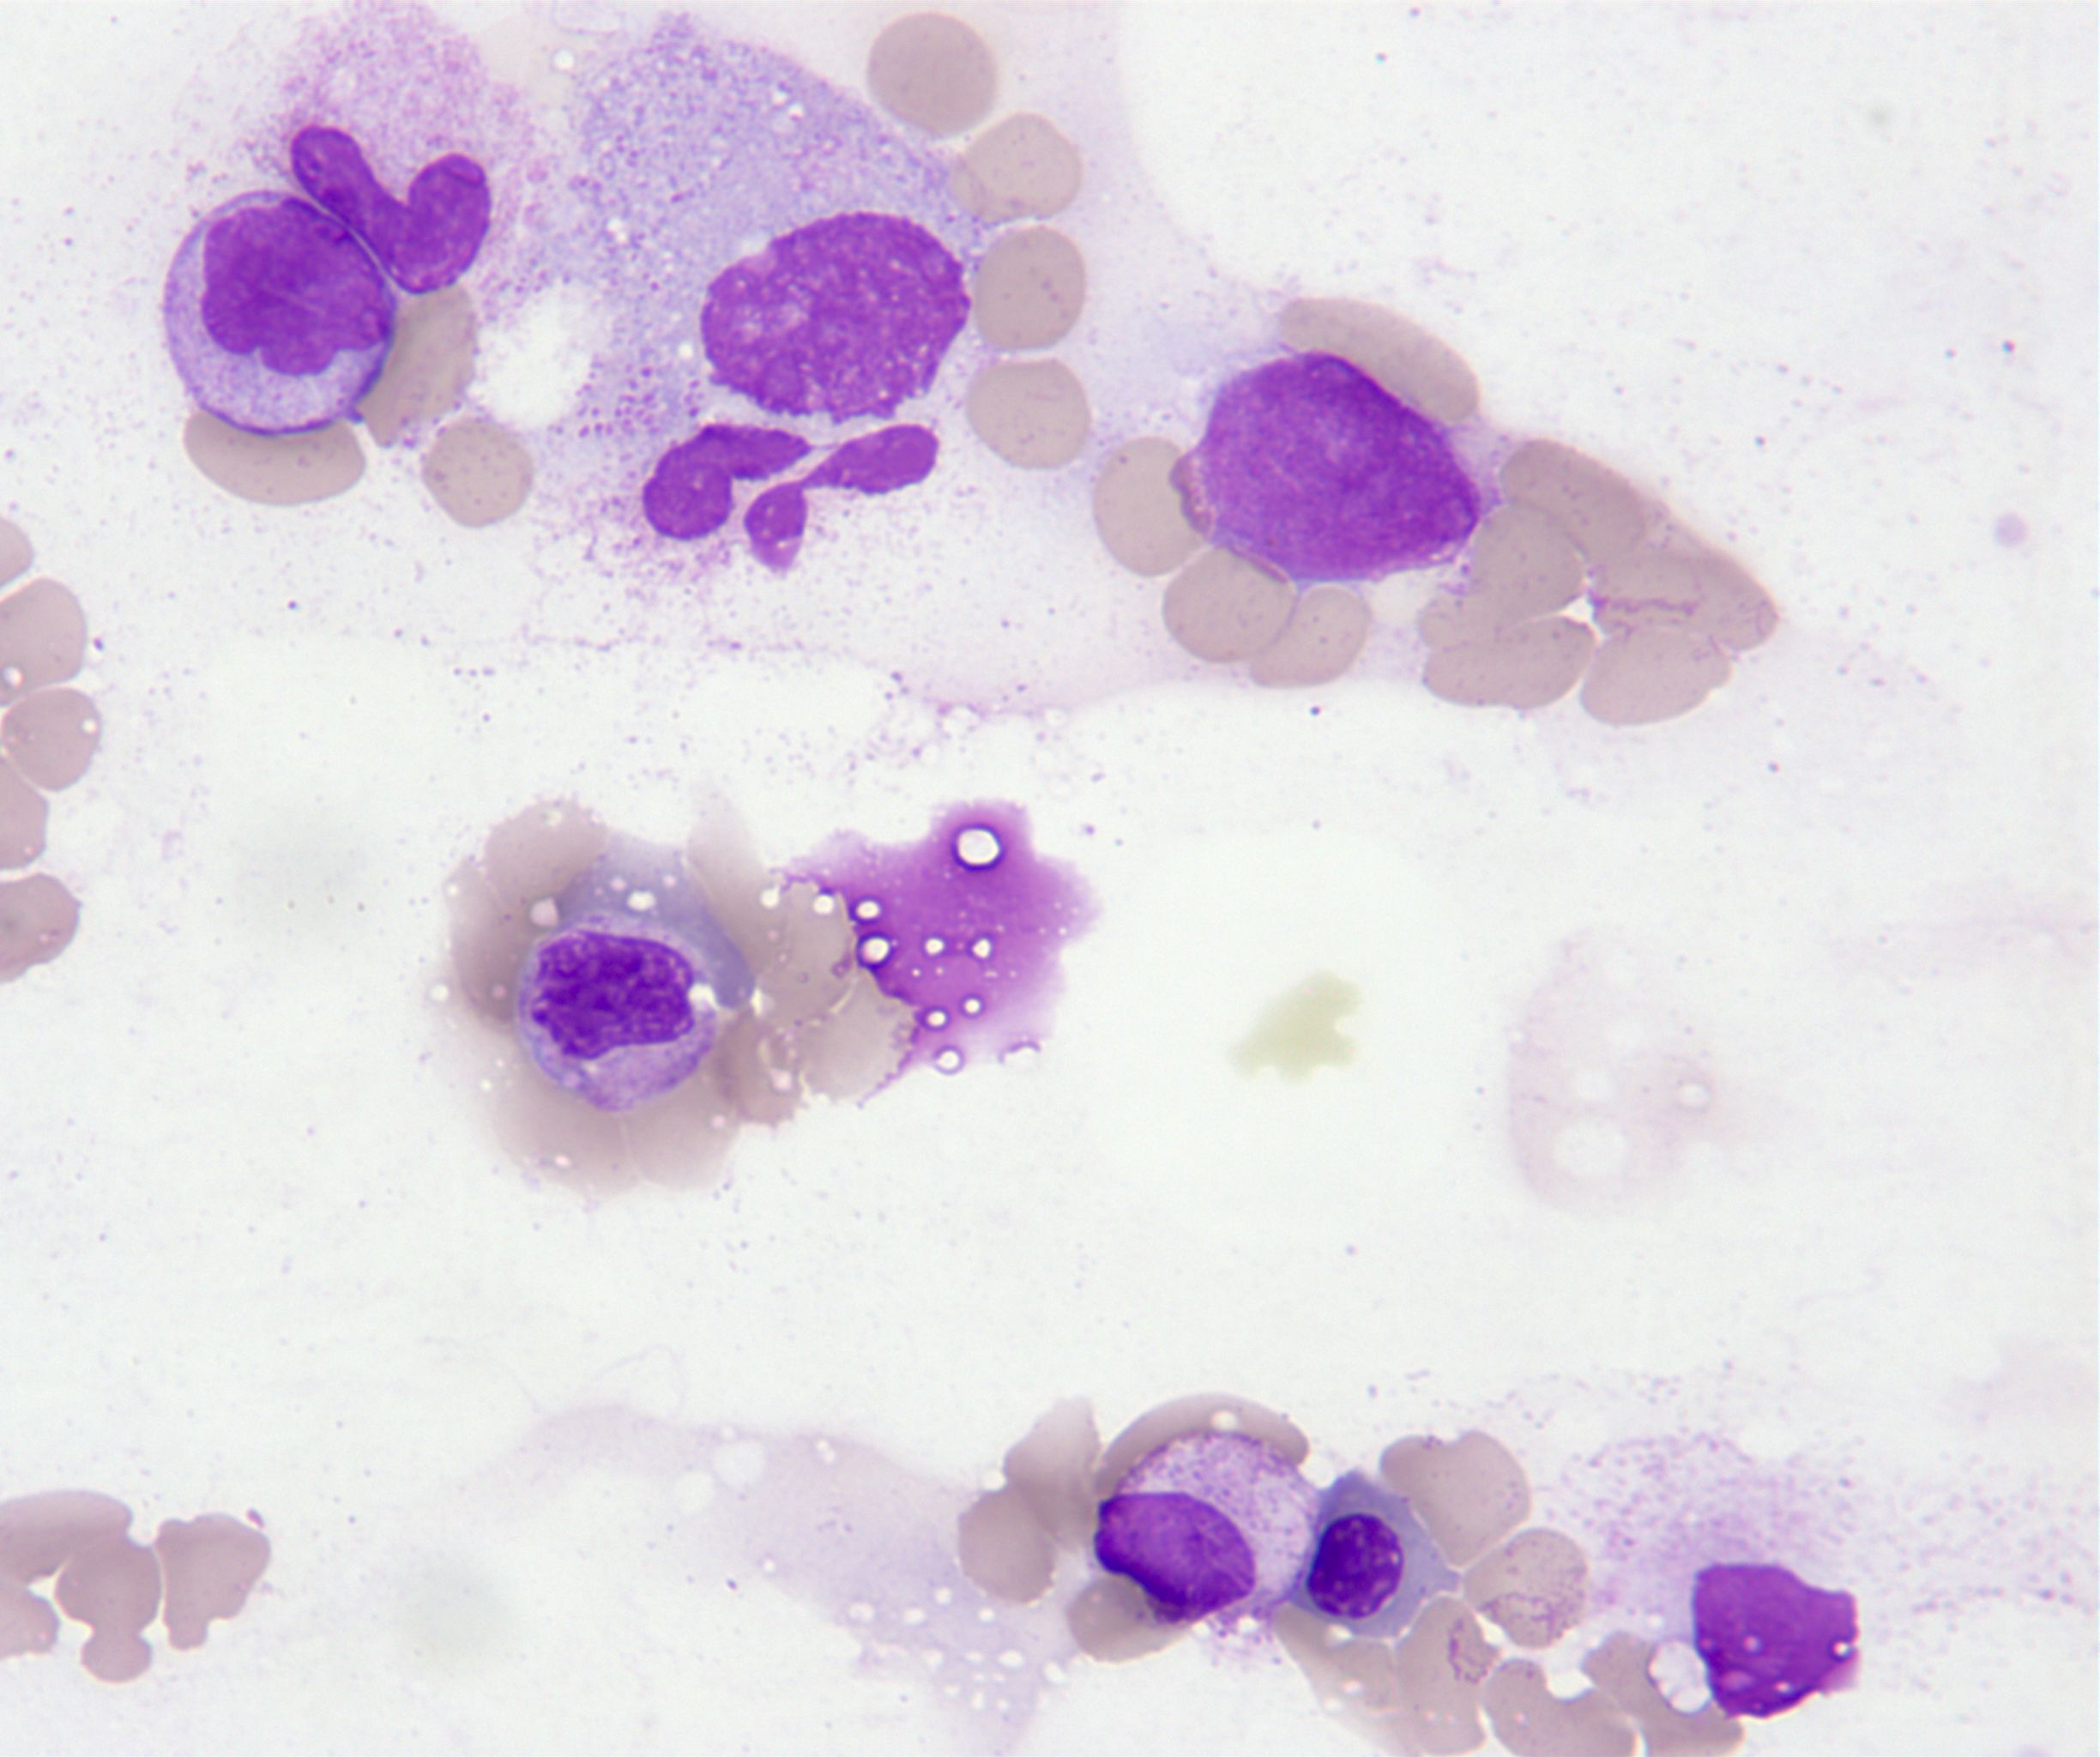24: (1284, 1459, 1469, 1645)
3: (153, 181, 405, 447), (499, 902, 733, 1125), (1090, 1424, 1320, 1633)
x: (1144, 340, 1502, 597), (682, 194, 985, 431)
